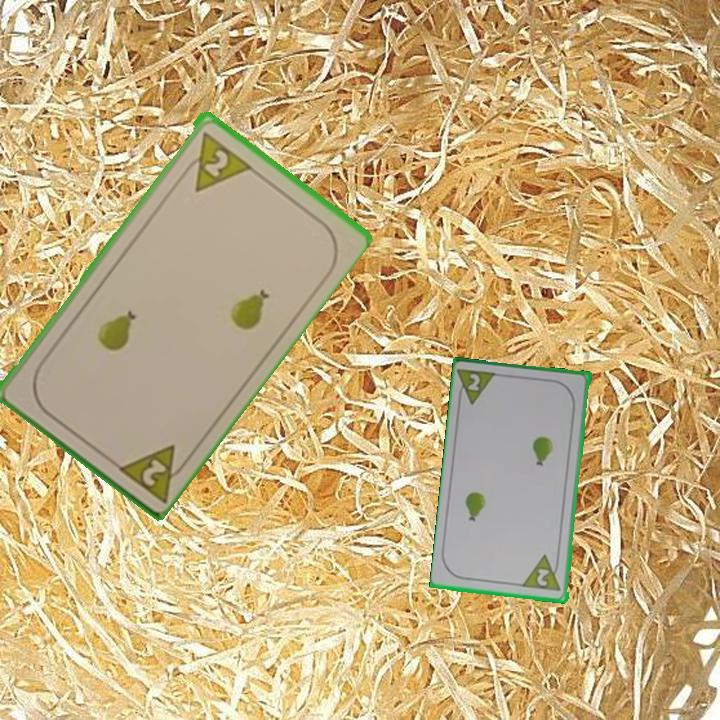2p: (177, 128, 253, 195), (454, 365, 501, 409), (520, 552, 564, 594), (138, 454, 170, 489)
